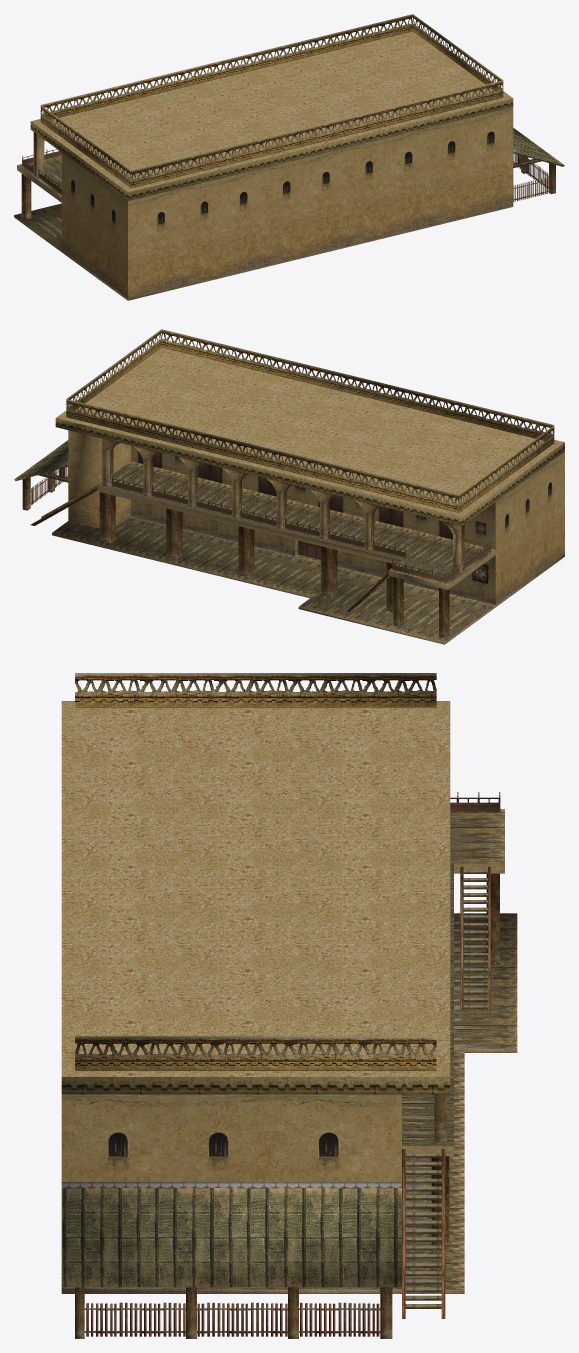
File: w_cd_inn.glb
3 renders of one model, top to bottom at view 1: azimuth 30°, elevation 25°; view 2: azimuth 150°, elevation 25°; view 3: azimuth 270°, elevation 25°, orthographic. The views are drawn at different scales.
Visible parts, largest first — view 1: w_cd_inn_wall, w_cd_inn_flat, w_cd_inn_alpha, w_cd_inn_column, w_cd_inn_floor, w_cd_inn_roof; view 2: w_cd_inn_flat, w_cd_inn_floor, w_cd_inn_alpha, w_cd_inn_wall, w_cd_inn_column, w_cd_inn_roof, w_cd_inn_winlight; view 3: w_cd_inn_flat, w_cd_inn_roof, w_cd_inn_wall, w_cd_inn_alpha, w_cd_inn_floor, w_cd_inn_column, w_cd_inn_floor2side.
Boxes of the visible parts, x1,y1,x2,y2 form: w_cd_inn_wall: [62, 107, 513, 298]; w_cd_inn_flat: [17, 31, 512, 202]; w_cd_inn_alpha: [22, 14, 549, 201]; w_cd_inn_column: [21, 98, 555, 219]; w_cd_inn_floor: [14, 155, 513, 300]; w_cd_inn_roof: [513, 128, 564, 166]; w_cd_inn_flat: [56, 347, 564, 589]; w_cd_inn_floor: [30, 461, 564, 644]; w_cd_inn_alpha: [30, 329, 554, 582]; w_cd_inn_wall: [68, 430, 564, 604]; w_cd_inn_column: [22, 418, 564, 637]; w_cd_inn_roof: [14, 440, 495, 604]; w_cd_inn_winlight: [174, 456, 486, 581]; w_cd_inn_flat: [61, 701, 504, 1156]; w_cd_inn_roof: [61, 1182, 401, 1287]; w_cd_inn_wall: [61, 1094, 401, 1289]; w_cd_inn_alpha: [75, 673, 500, 1336]; w_cd_inn_floor: [61, 809, 517, 1318]; w_cd_inn_column: [61, 873, 499, 1338]; w_cd_inn_floor2side: [405, 871, 488, 1308].
Size of the model in its own units: 37.8 by 10.39 by 17.08.
8 materials, 8 textured.
